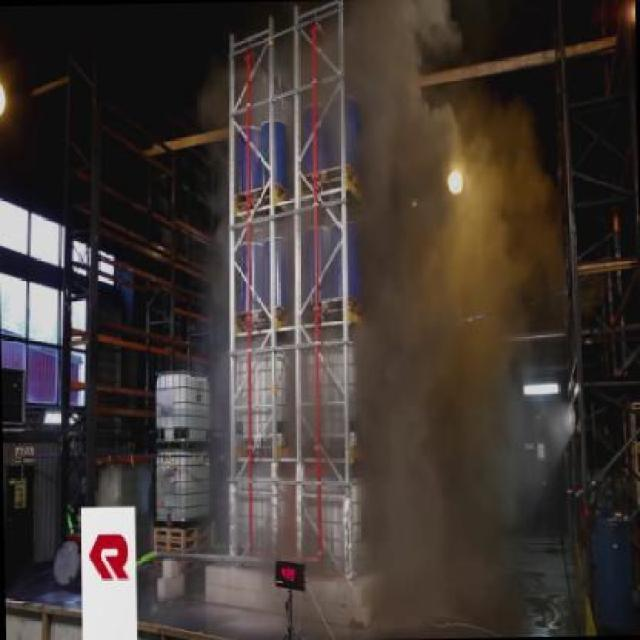fire: (349, 0, 564, 535)
